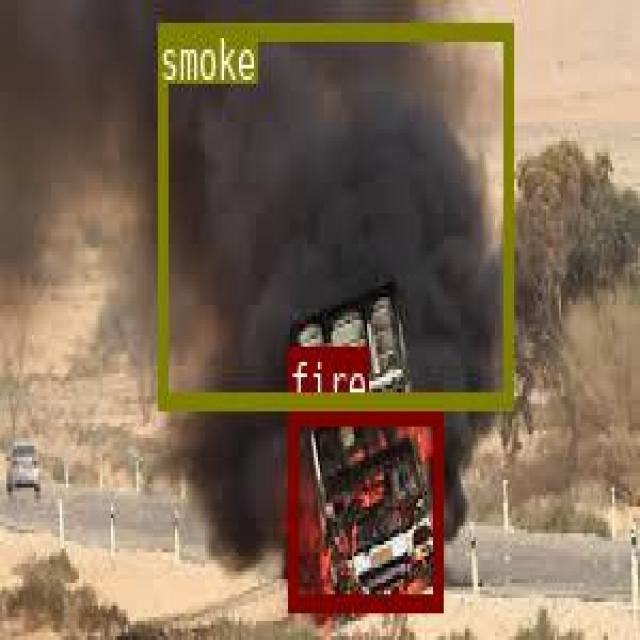fire: (286, 406, 441, 607)
smoke: (156, 21, 511, 405)
